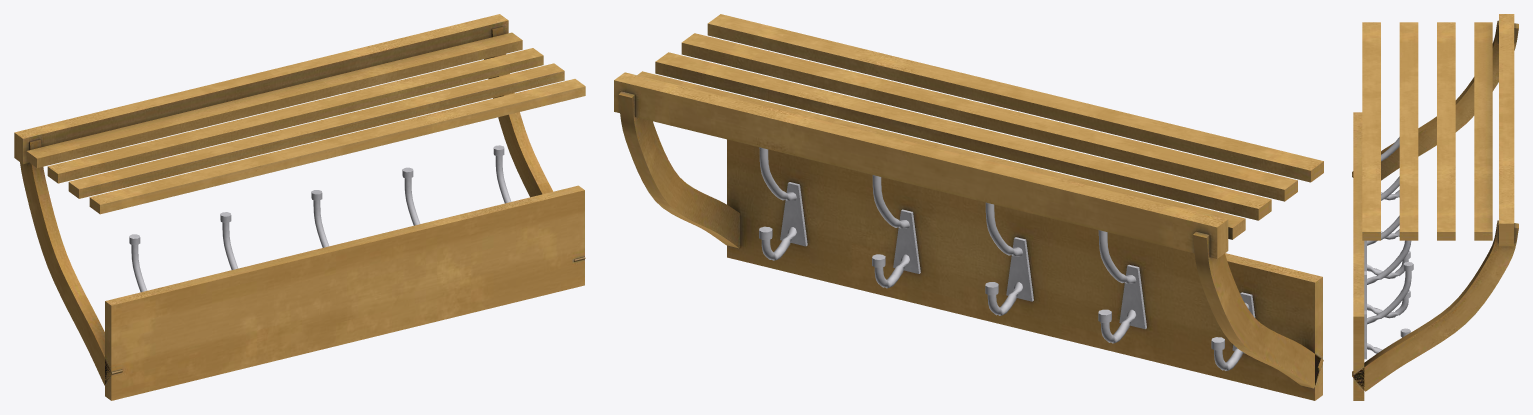
File: hall_shelf_hooks_web.glb
The picture shows the model from 3 angles, left to right: view 1: azimuth 30°, elevation 25°; view 2: azimuth 150°, elevation 25°; view 3: azimuth 270°, elevation 25°; orthographic projection. The views are drawn at different scales.
Parts seen in each view (by area): view 1: HallShelfHooks_Body, Chrome_Hooks; view 2: HallShelfHooks_Body, Chrome_Hooks; view 3: HallShelfHooks_Body, Chrome_Hooks.
Part boxes in pixels (bbox=[...]): HallShelfHooks_Body: bbox=[14, 14, 585, 400]; Chrome_Hooks: bbox=[129, 145, 511, 292]; HallShelfHooks_Body: bbox=[614, 14, 1323, 400]; Chrome_Hooks: bbox=[759, 147, 1255, 370]; HallShelfHooks_Body: bbox=[1352, 14, 1518, 400]; Chrome_Hooks: bbox=[1364, 137, 1413, 359].
Size of the model in its own units: 0.8 by 0.32 by 0.2692.
2 materials, 2 textured.
